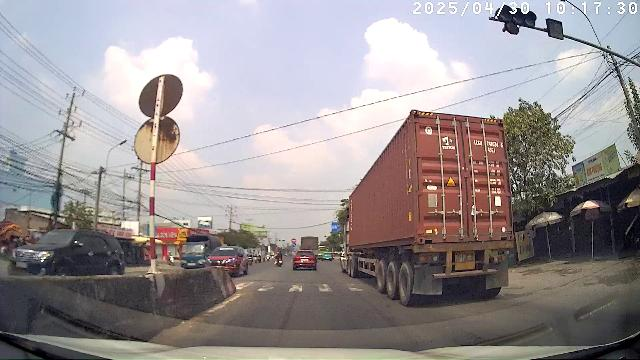102-cam-di-nguoc-chieu: (292, 238, 296, 242)
302a-huong-phai-di-vong-chuong-ngai-vat-1: (292, 244, 296, 248)
